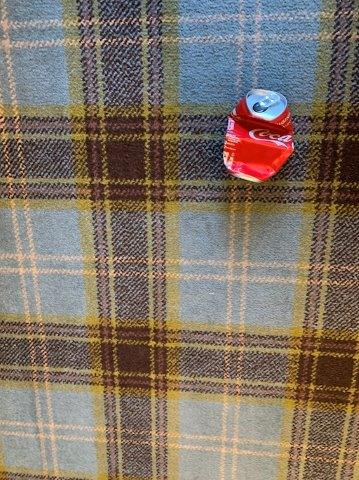kaleng: (226, 90, 294, 184)
